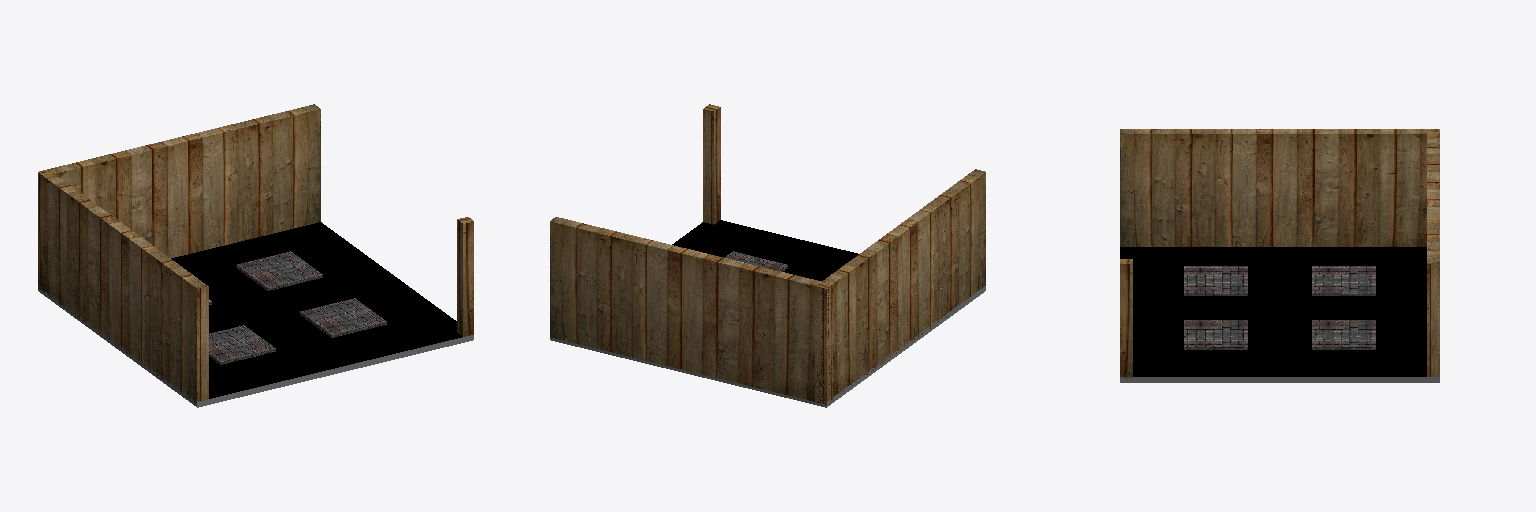
3 views of the same model, side by side, from view 1: azimuth 30°, elevation 25°; view 2: azimuth 150°, elevation 25°; view 3: azimuth 270°, elevation 25° (orthographic).
Visible parts, largest first — view 1: Hock_Ecke; view 2: Hock_Ecke; view 3: Hock_Ecke.
Boxes of the visible parts, x1=… form: Hock_Ecke: x1=38, y1=104, x2=473, y2=407; Hock_Ecke: x1=550, y1=104, x2=985, y2=407; Hock_Ecke: x1=1120, y1=129, x2=1439, y2=382.
Size of the model in its own units: 5 by 2.05 by 5.
Materials: 10 (2 with a texture image).